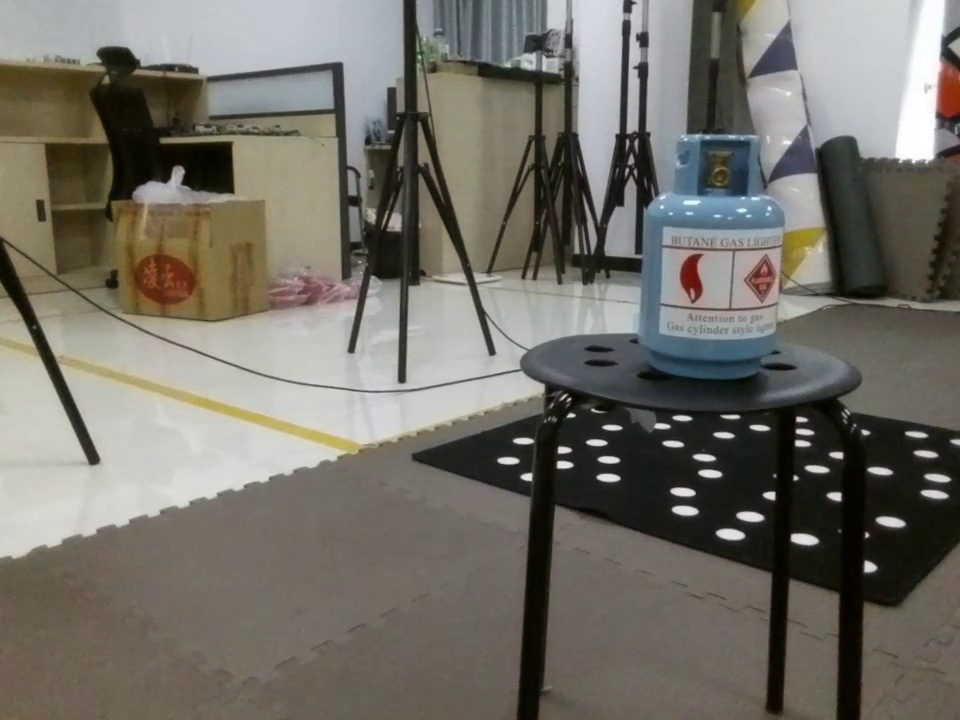gas tank: (631, 127, 800, 381)
